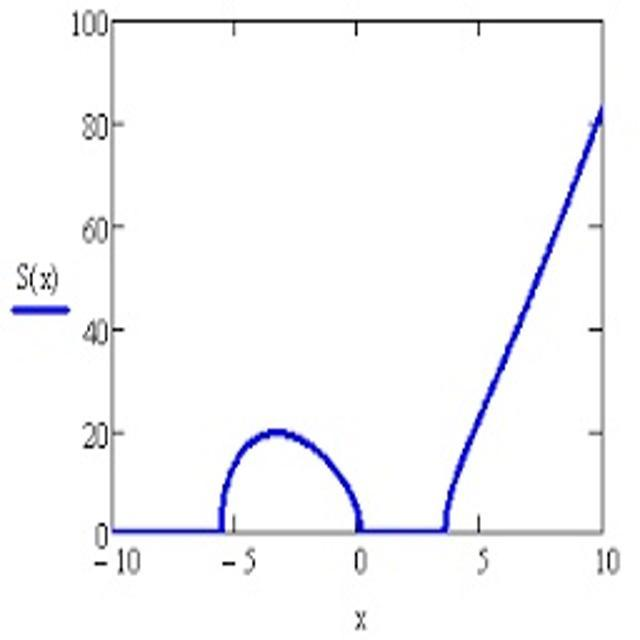axis: (108, 511, 615, 541), (107, 10, 131, 538)
line: (113, 105, 608, 537)
